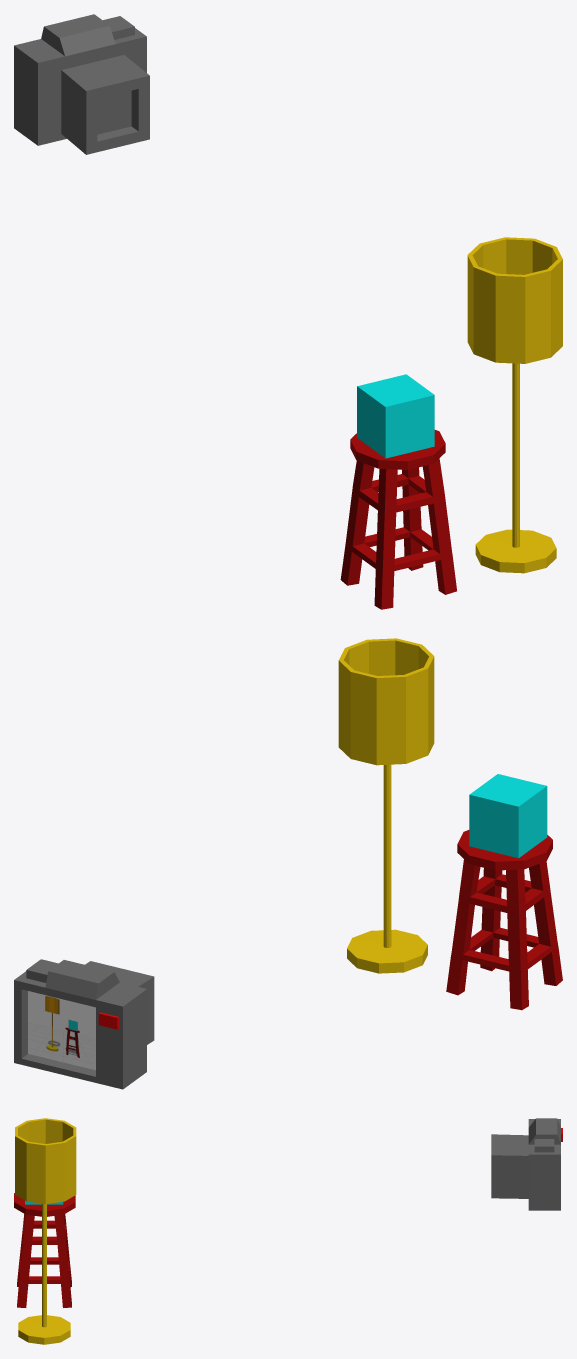
The model's file is full_scene_color_textures.fbx.
The picture shows the model from 3 angles, top to bottom: view 1: azimuth 30°, elevation 25°; view 2: azimuth 150°, elevation 25°; view 3: azimuth 270°, elevation 25°; orthographic projection. The views are drawn at different scales.
Parts seen in each view (by area): view 1: camera, lamp, stool, cube; view 2: lamp, camera, stool, cube; view 3: lamp, camera, stool.
Part boxes in pixels (x1,y1,x2,y2): camera: [14, 14, 149, 154]; lamp: [467, 237, 562, 573]; stool: [340, 430, 456, 609]; cube: [357, 374, 434, 458]; lamp: [338, 638, 434, 973]; camera: [14, 959, 154, 1089]; stool: [446, 830, 562, 1010]; cube: [469, 774, 547, 858]; lamp: [15, 1118, 76, 1344]; camera: [491, 1118, 562, 1210]; stool: [14, 1193, 75, 1307].
Bounding box in the file's own units: 4.84 × 6.92 × 16.96.
Materials: 6 (1 with a texture image).
